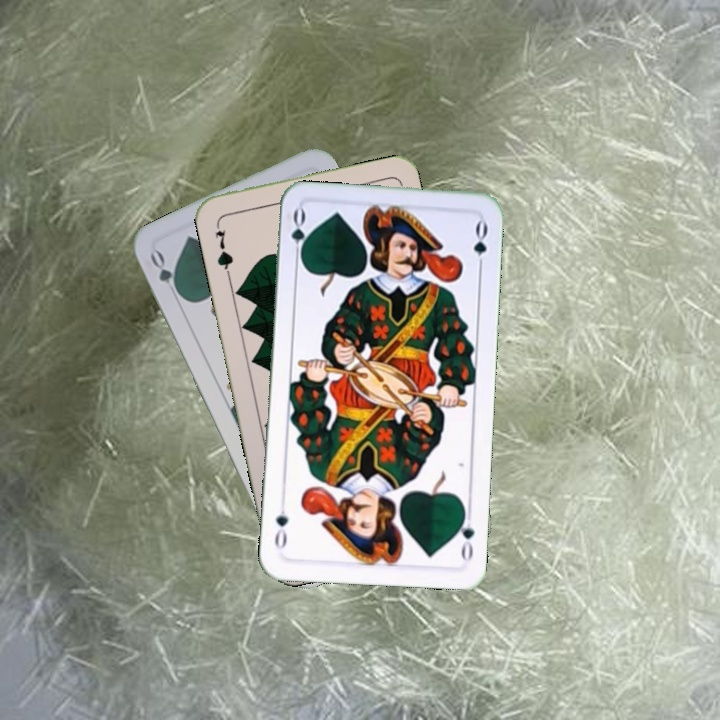G7: (211, 218, 236, 277)
GO: (145, 246, 186, 303), (452, 504, 477, 564), (287, 206, 308, 265)
